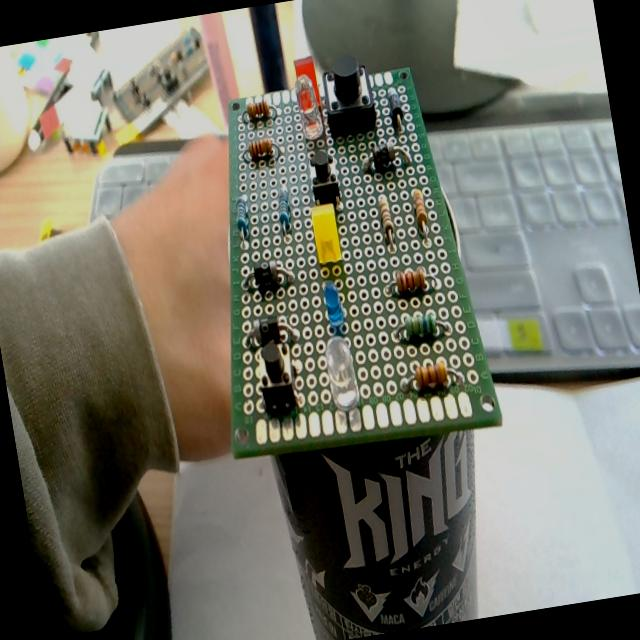diode: (242, 312, 298, 352), (240, 258, 296, 296), (359, 137, 412, 175), (386, 86, 406, 132)
led: (322, 333, 362, 413), (292, 72, 326, 140), (308, 202, 344, 266), (321, 278, 348, 334)
resistor: (394, 309, 449, 346), (231, 194, 254, 250), (414, 358, 449, 392), (378, 196, 398, 250), (274, 187, 295, 232), (411, 186, 430, 235), (395, 266, 427, 295), (245, 96, 270, 121), (248, 137, 274, 161)
switch: (318, 54, 379, 139), (250, 334, 302, 412), (306, 146, 342, 206)
